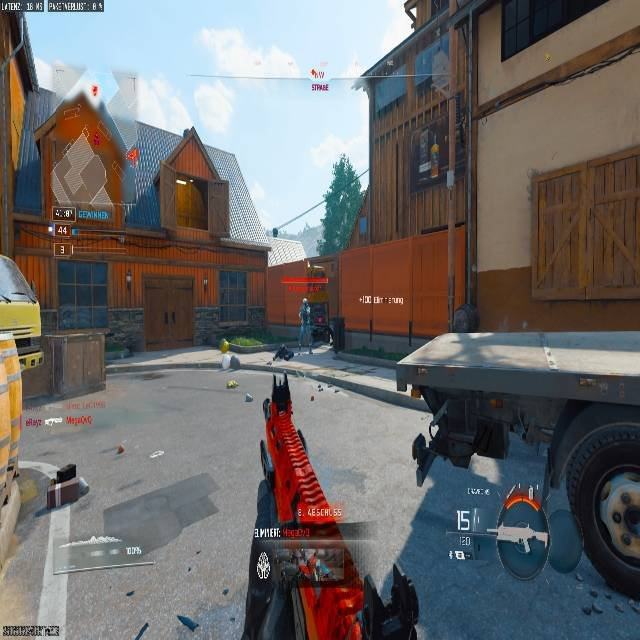head: (302, 298, 309, 305)
player: (298, 298, 330, 348), (297, 298, 313, 349)
